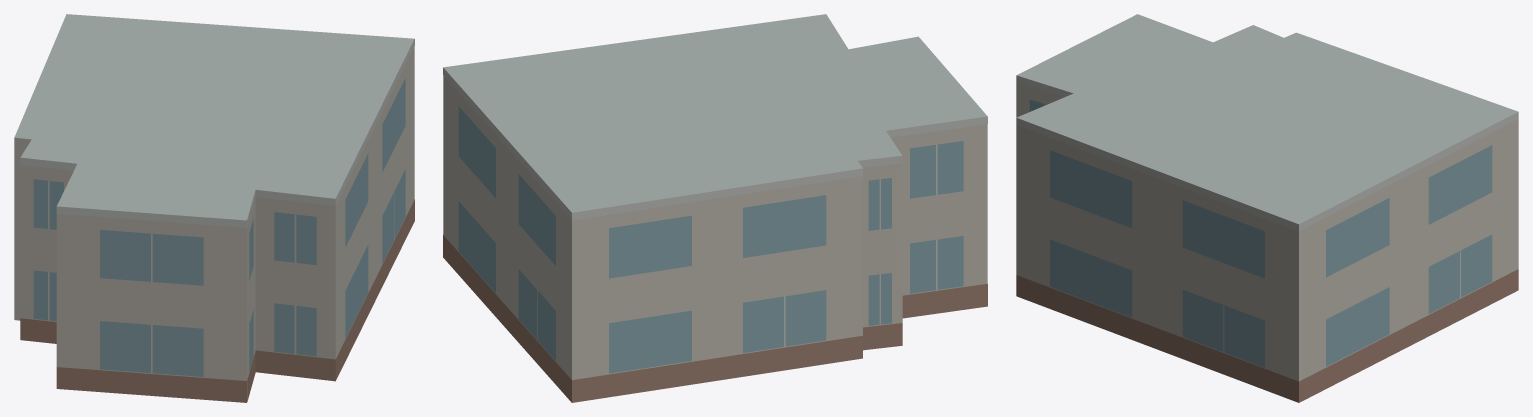
File: survey-upis-33026625.glb
3 views of the same model, side by side, from view 1: azimuth 30°, elevation 25°; view 2: azimuth 150°, elevation 25°; view 3: azimuth 270°, elevation 25° (orthographic). The views are drawn at different scales.
Parts seen in each view (by area): view 1: survey-upis-33026625.tmp; view 2: survey-upis-33026625.tmp; view 3: survey-upis-33026625.tmp.
Boxes of the visible parts, x1,y1,x2,y2 form: survey-upis-33026625.tmp: (14,14,414,402); survey-upis-33026625.tmp: (443,14,987,402); survey-upis-33026625.tmp: (1016,14,1518,402).
Bounding box in the file's own units: 15.42 × 6.1 × 15.56.
